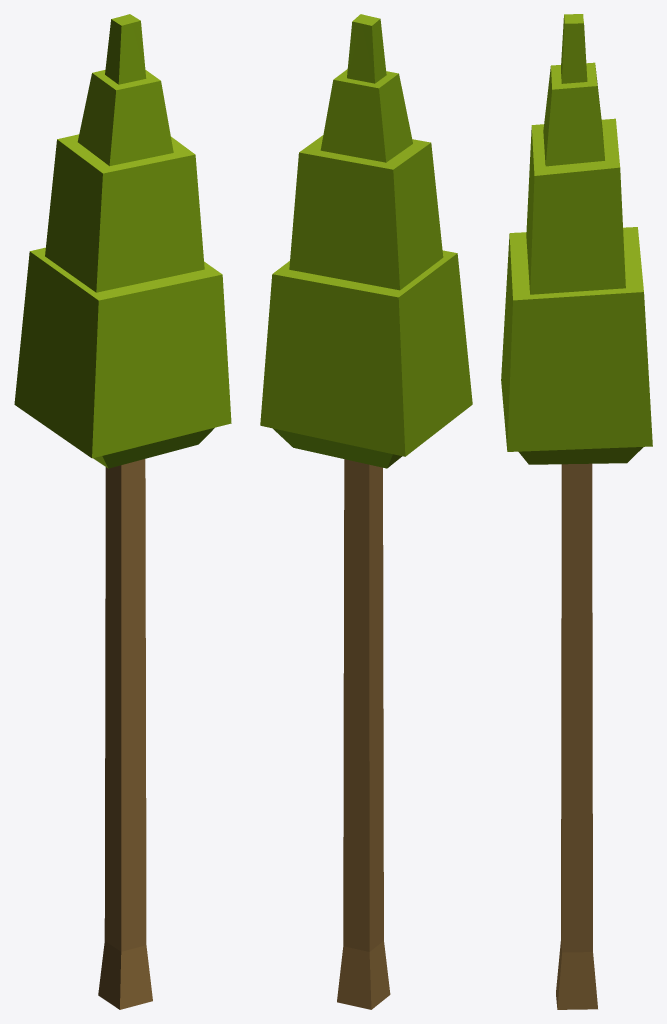
Rendered from SmallMore_SF_Env_Tree_014.fbx.
The picture shows the model from 3 angles, left to right: view 1: azimuth 30°, elevation 25°; view 2: azimuth 150°, elevation 25°; view 3: azimuth 270°, elevation 25°; orthographic projection.
Parts seen in each view (by area): view 1: SF_Env_Tree_014; view 2: SF_Env_Tree_014; view 3: SF_Env_Tree_014.
Boxes of the visible parts, left/top/right/bottom form: SF_Env_Tree_014: left=14, top=14, right=231, bottom=1009; SF_Env_Tree_014: left=260, top=14, right=472, bottom=1009; SF_Env_Tree_014: left=501, top=14, right=652, bottom=1009.
Bounding box in the file's own units: 224 × 1418 × 199.
